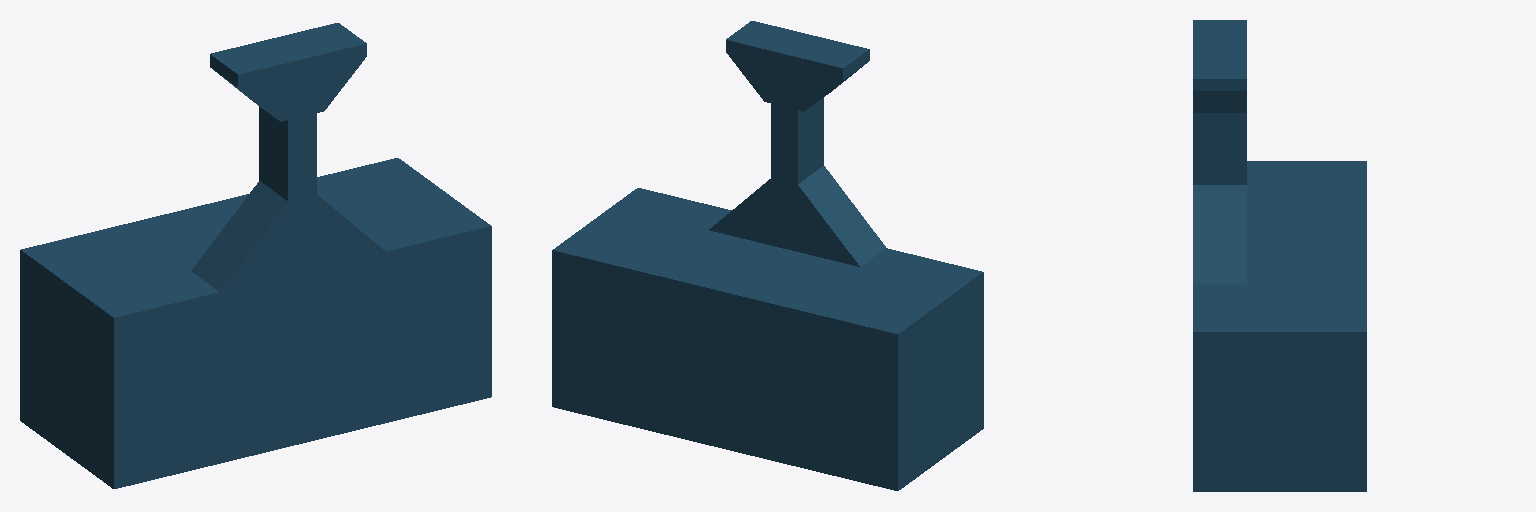
The robot description file, URDF, robot "prl_ur5_robot":
<?xml version="1.0" encoding="utf-8"?>
<robot name="prl_ur5_robot">
<!-- bimanual stand -->
  <material name="blue_platinum">
    <color rgba="0.192 0.357 0.451 1"/>
  </material>
  <link name="prl_ur5_base"><inertial><mass value="0.001"/><inertia ixx="0.00001" ixy="0" ixz="0" iyy="0.00001" iyz="0" izz="0.00001"/></inertial></link>
  <link name="stand_link">
    <visual>
      <geometry>
        <mesh filename="./meshes/prl_ur5/vention_tower.obj"/>
      </geometry>
      <material name="blue_platinum" />
    </visual>
    <collision>
      <geometry>
        <mesh filename="./meshes/prl_ur5/vention_tower_1.stl"/>
      </geometry>
    </collision>
    <collision>
      <geometry>
        <mesh filename="./meshes/prl_ur5/vention_tower_2.stl"/>
      </geometry>
    </collision>
    <collision>
      <geometry>
        <mesh filename="./meshes/prl_ur5/vention_tower_3.stl"/>
      </geometry>
    </collision>
  <inertial><mass value="0.001"/><inertia ixx="0.00001" ixy="0" ixz="0" iyy="0.00001" iyz="0" izz="0.00001"/></inertial></link>
  <joint name="stand_fix" type="fixed">
    <parent link="prl_ur5_base"/>
    <child link="stand_link"/>
    <origin rpy="0.0 0.0 0.0" xyz="0.0 -0.3825 0.0"/>
  </joint>
  <link name="table_link">
    <visual>
      <geometry>
        <mesh filename="./meshes/prl_ur5/vention_table.obj"/>
      </geometry>
      <material name="blue_platinum" />
    </visual>
    <collision>
      <geometry>
        <mesh filename="./meshes/prl_ur5/vention_table.obj"/>
      </geometry>
    </collision>
  <inertial><mass value="0.001"/><inertia ixx="0.00001" ixy="0" ixz="0" iyy="0.00001" iyz="0" izz="0.00001"/></inertial></link>
  <joint name="table_fix" type="fixed">
    <parent link="stand_link"/>
    <child link="table_link"/>
    <origin rpy="0.0 0.0 0.0" xyz="0.0 0.0 0.0"/>
  </joint>
  </robot>

--- Facts derived from the render (not from the file) ---
The picture shows the robot from 3 angles, left to right: view 1: azimuth 30°, elevation 25°; view 2: azimuth 150°, elevation 25°; view 3: azimuth 270°, elevation 25°; orthographic projection.
Model prl_ur5_robot with 3 links and 2 joints (2 fixed), rooted at prl_ur5_base, posed all joints at 0.
Links seen in each view (by area): view 1: table_link, stand_link; view 2: table_link, stand_link; view 3: table_link, stand_link.
Link boxes in pixels (x1,y1,x2,y2): table_link: [20, 158, 491, 488]; stand_link: [191, 23, 385, 291]; table_link: [552, 188, 983, 490]; stand_link: [709, 21, 885, 266]; table_link: [1193, 161, 1366, 491]; stand_link: [1193, 20, 1246, 283].
Size in the robot's own frame: 1.82 by 0.78 by 1.77 metres.
Meshes: 2 distinct files referenced, 2 mesh visuals loaded (2 OBJ).